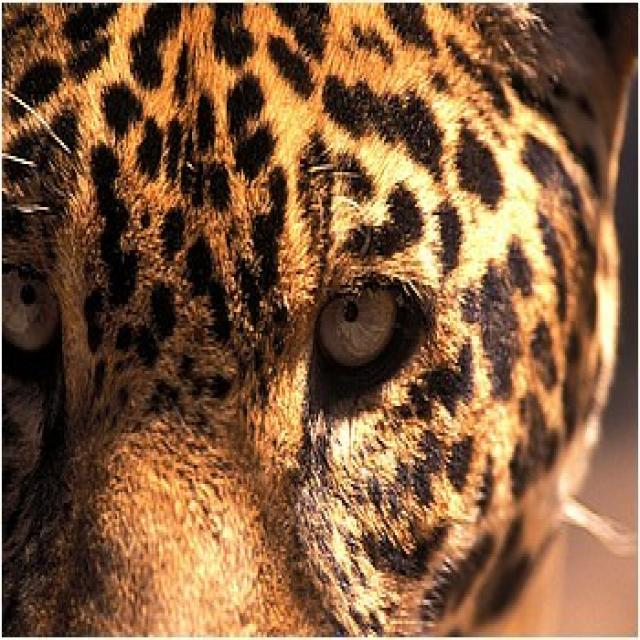Leopard: (0, 3, 635, 632)
